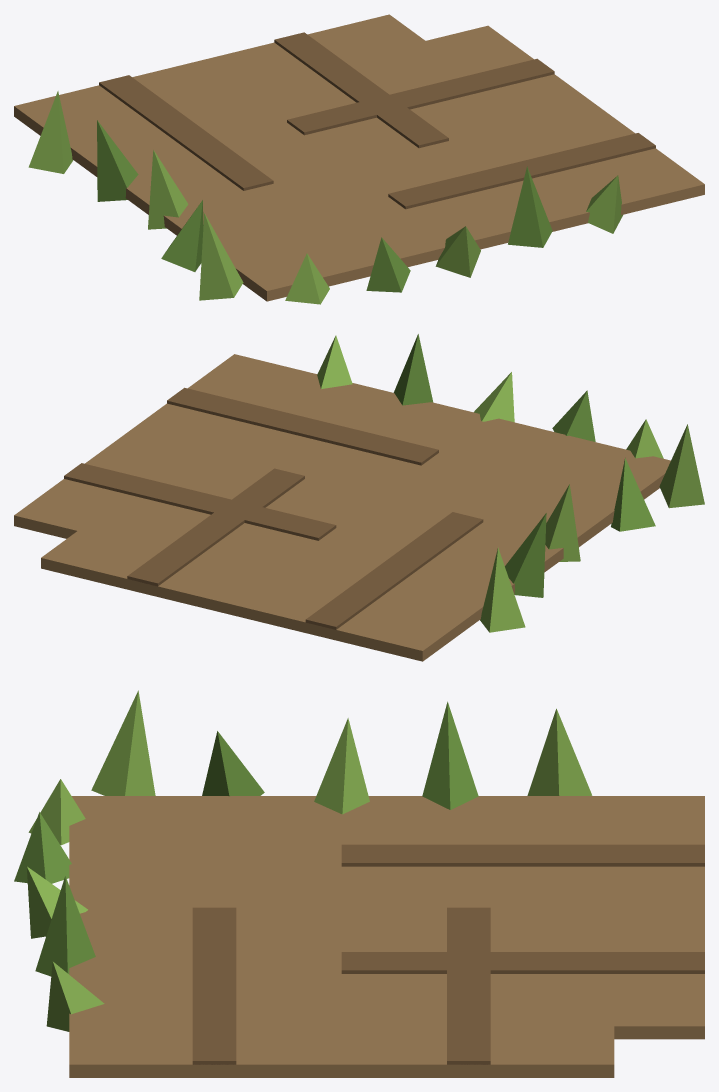
File: road_dirt_corner.glb
The picture shows the model from 3 angles, top to bottom: view 1: azimuth 30°, elevation 25°; view 2: azimuth 150°, elevation 25°; view 3: azimuth 270°, elevation 25°; orthographic projection. The views are drawn at different scales.
Visible parts, largest first — view 1: street_dirt_corner; view 2: street_dirt_corner; view 3: street_dirt_corner.
Part boxes in pixels (box(x1,y1,x2,y2)): street_dirt_corner: box(14, 14, 704, 304); street_dirt_corner: box(14, 334, 704, 661); street_dirt_corner: box(14, 690, 704, 1077).
Size of the model in its own units: 1.93 by 0.339 by 1.9.
